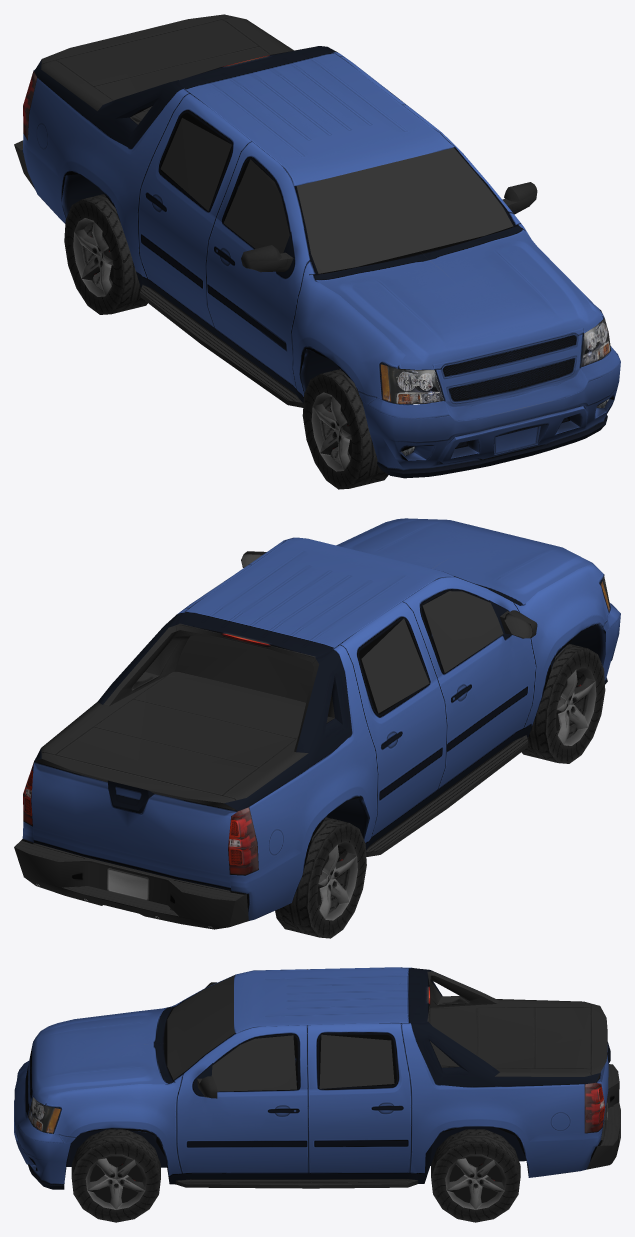
The model's file is syj_car05.FBX.
3 renders of one model, top to bottom at view 1: azimuth 30°, elevation 25°; view 2: azimuth 150°, elevation 25°; view 3: azimuth 270°, elevation 25°, orthographic. The views are drawn at different scales.
Parts seen in each view (by area): view 1: syj_car05; view 2: syj_car05; view 3: syj_car05.
Boxes of the visible parts, x1,y1,x2,y2 form: syj_car05: (14, 14, 620, 489); syj_car05: (14, 518, 620, 938); syj_car05: (14, 967, 620, 1222).
Bounding box in the file's own units: 235 × 187 × 560.
